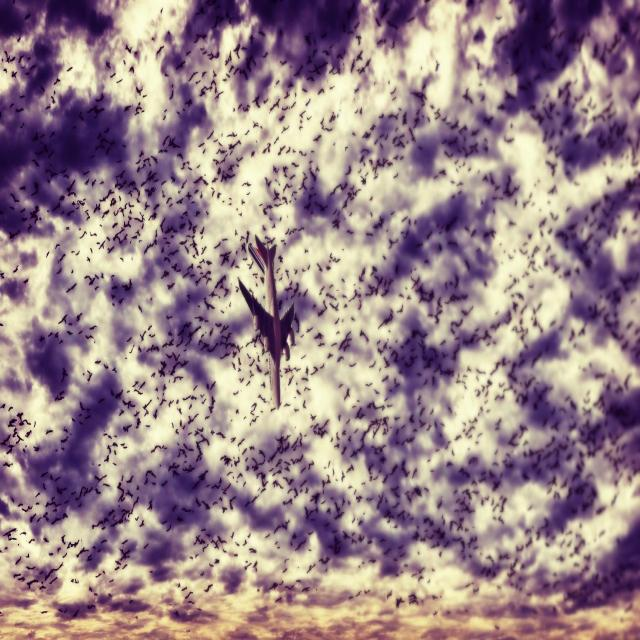airplane: (237, 233, 297, 410)
